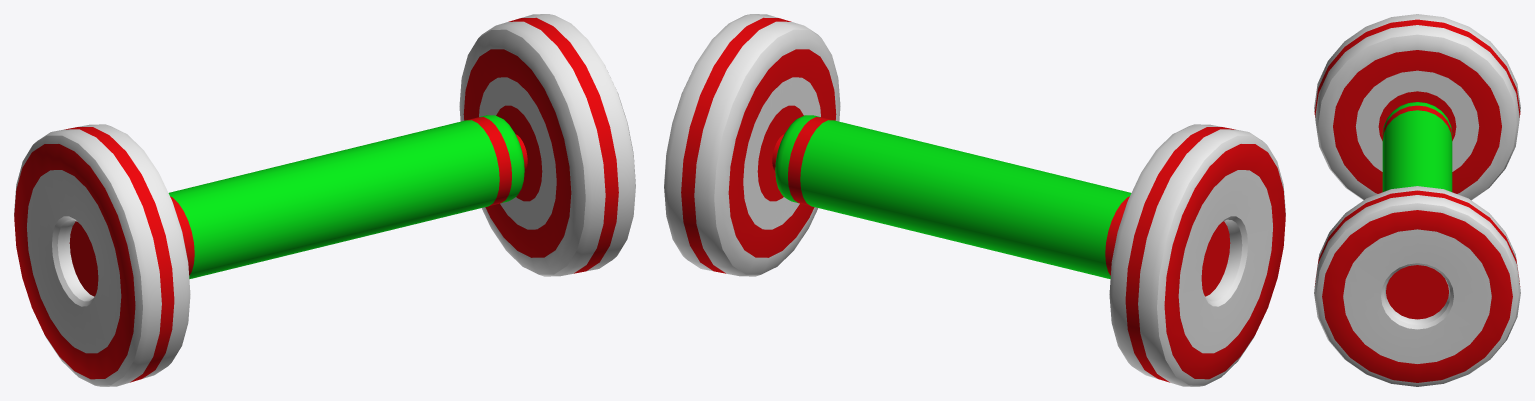
Rendered from Denge_Silindiri.fbx.
3 renders of one model, left to right at view 1: azimuth 30°, elevation 25°; view 2: azimuth 150°, elevation 25°; view 3: azimuth 270°, elevation 25°, orthographic. The views are drawn at different scales.
Visible parts, largest first — view 1: Denge_Silindiri; view 2: Denge_Silindiri; view 3: Denge_Silindiri.
Boxes of the visible parts, left/top/right/bottom form: Denge_Silindiri: left=14, top=14, right=635, bottom=386; Denge_Silindiri: left=664, top=14, right=1285, bottom=386; Denge_Silindiri: left=1314, top=14, right=1520, bottom=386.
Bounding box in the file's own units: 912 × 414 × 414.
